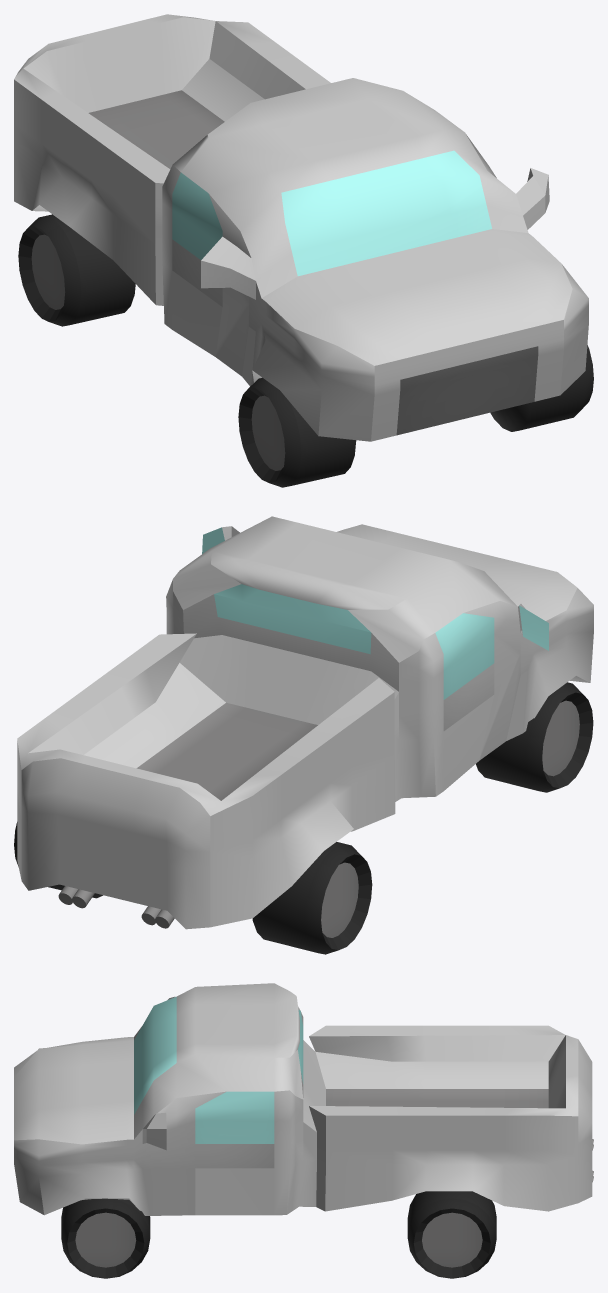
The model's file is Truck.fbx.
The picture shows the model from 3 angles, top to bottom: view 1: azimuth 30°, elevation 25°; view 2: azimuth 150°, elevation 25°; view 3: azimuth 270°, elevation 25°; orthographic projection. The views are drawn at different scales.
Visible parts, largest first — view 1: pCylinder13; view 2: pCylinder13; view 3: pCylinder13.
Boxes of the visible parts, <box> form: pCylinder13: <box>14,14,593,487</box>; pCylinder13: <box>14,516,593,954</box>; pCylinder13: <box>14,983,593,1278</box>.
Size of the model in its own units: 7.64 by 5.65 by 14.04.
